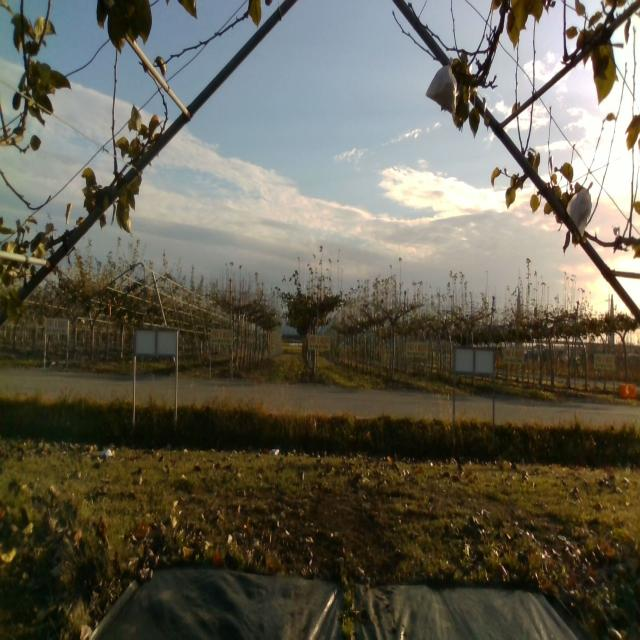pearbags: (426, 55, 458, 113), (567, 180, 594, 236)
